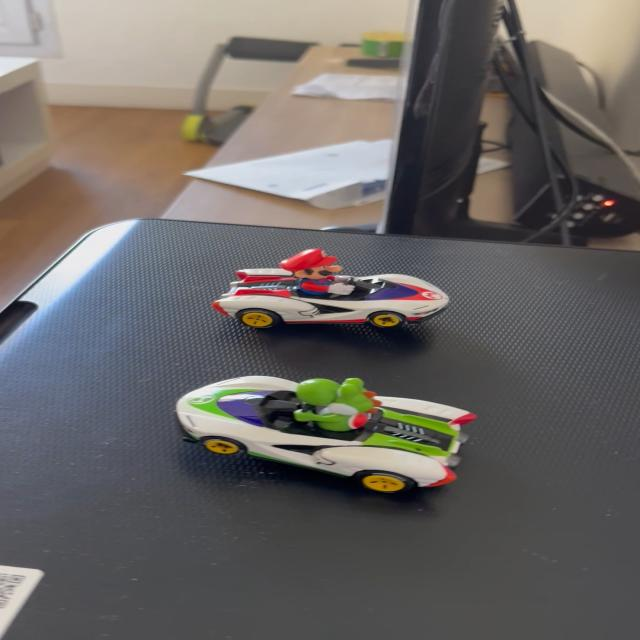mario: (213, 247, 460, 335)
yoshi: (162, 360, 494, 491)
